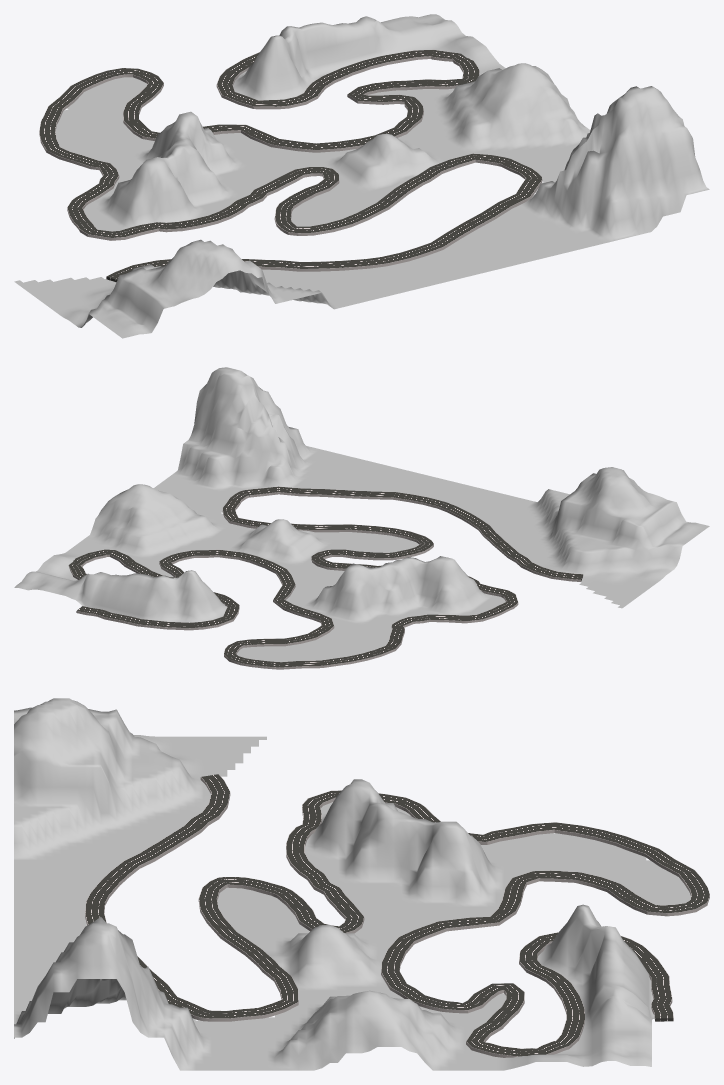
Rendered from map1.1.fbx.
3 views of the same model, one above another, from view 1: azimuth 30°, elevation 25°; view 2: azimuth 150°, elevation 25°; view 3: azimuth 270°, elevation 25° (orthographic). The views are drawn at different scales.
Visible parts, largest first — view 1: hill, map6, map3, map5, map1, map4, map2; view 2: hill, map1, map5, map4, map6, map3, map2; view 3: hill, map5, map6, map3, map4, map1, map2.
Boxes of the visible parts, x1=… form: hill: x1=14, y1=14, x2=709, y2=338; map6: x1=216, y1=49, x2=479, y2=109; map3: x1=80, y1=167, x2=339, y2=240; map5: x1=123, y1=76, x2=423, y2=152; map1: x1=106, y1=178, x2=541, y2=282; map4: x1=39, y1=68, x2=157, y2=231; map2: x1=298, y1=153, x2=542, y2=235; hill: x1=14, y1=367, x2=709, y2=661; map1: x1=246, y1=486, x2=583, y2=581; map5: x1=159, y1=549, x2=334, y2=649; map4: x1=224, y1=603, x2=513, y2=669; map6: x1=68, y1=549, x2=239, y2=630; map3: x1=311, y1=540, x2=518, y2=608; map2: x1=222, y1=490, x2=431, y2=544; hill: x1=14, y1=698, x2=690, y2=1070; map5: x1=381, y1=870, x2=666, y2=1013; map6: x1=466, y1=932, x2=673, y2=1057; map3: x1=210, y1=790, x2=364, y2=933; map4: x1=378, y1=793, x2=709, y2=916; map1: x1=85, y1=774, x2=230, y2=1018; map2: x1=194, y1=881, x2=298, y2=1021.
Size of the model in its own units: 1028 by 181 by 906.
